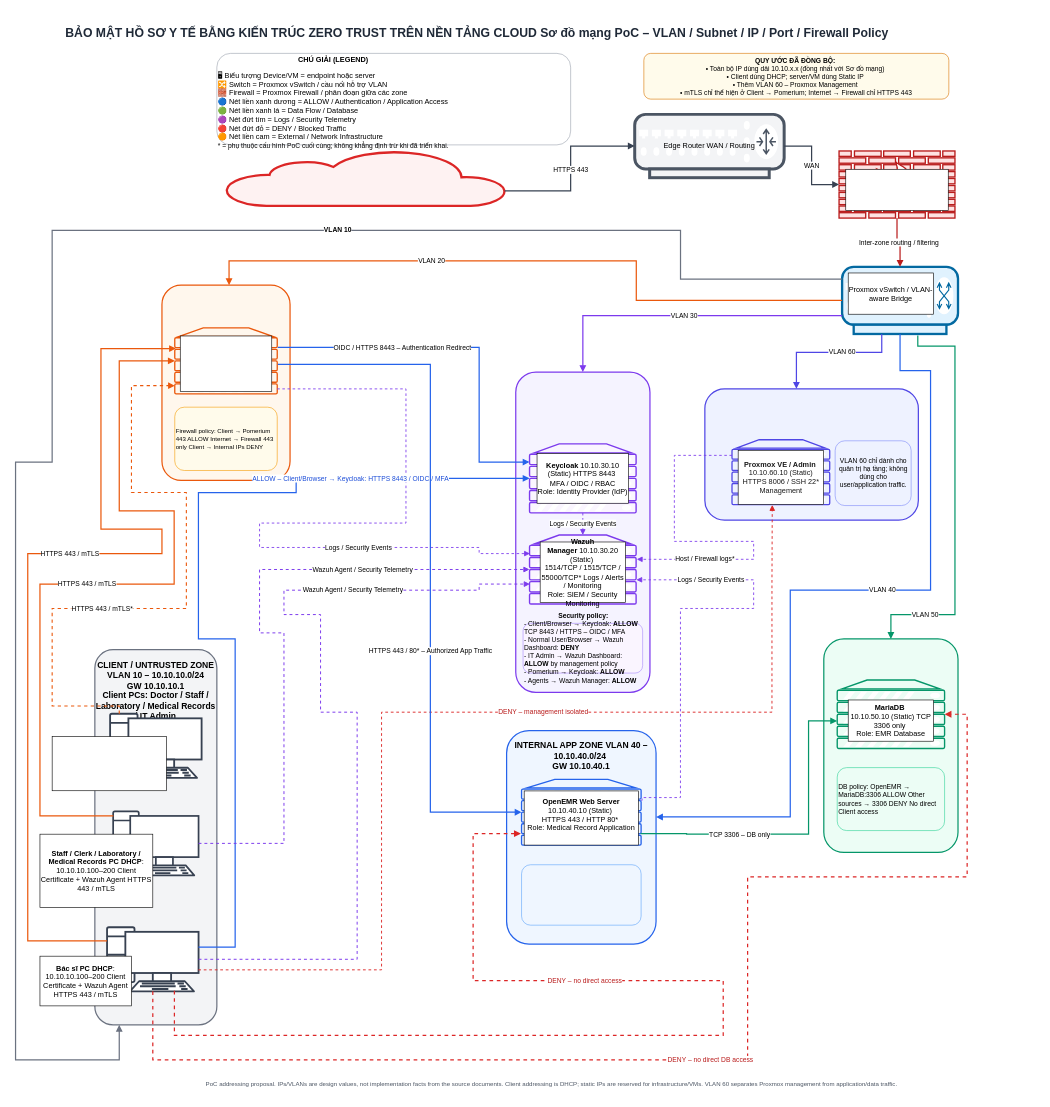
Image size: 1050x1107. Some labels were removed from this diagram. Each missing label, with the box of its shape:
App policy: Pomerium → OpenEMR ALLOW Client → OpenEMR DENY Direct bypass blocked: (521, 864, 641, 925)
DB ZONE VLAN 50 – 10.10.50.0/24 GW 10.10.50.1: (823, 638, 958, 853)
DMZ ZONE VLAN 20 – 10.10.20.0/24 GW 10.10.20.1: (161, 284, 290, 481)
Internet / External Untrusted: (225, 150, 507, 206)
IT Admin PC DHCP / reservation Management access by policy HTTPS 443 / SSH 22*: (52, 736, 166, 791)
Pomerium Gateway 10.10.20.10 (Static) HTTPS 443 / mTLS Role: Zero Trust PEP: (180, 335, 272, 391)
Proxmox Firewall Inter-zone Firewall Default DENY: (845, 169, 948, 211)
PROXMOX MANAGEMENT ZONE VLAN 60 – 10.10.60.0/24 GW 10.10.60.1: (704, 388, 919, 520)
SECURITY ZONE VLAN 30 – 10.10.30.0/24 GW 10.10.30.1: (515, 371, 650, 693)
